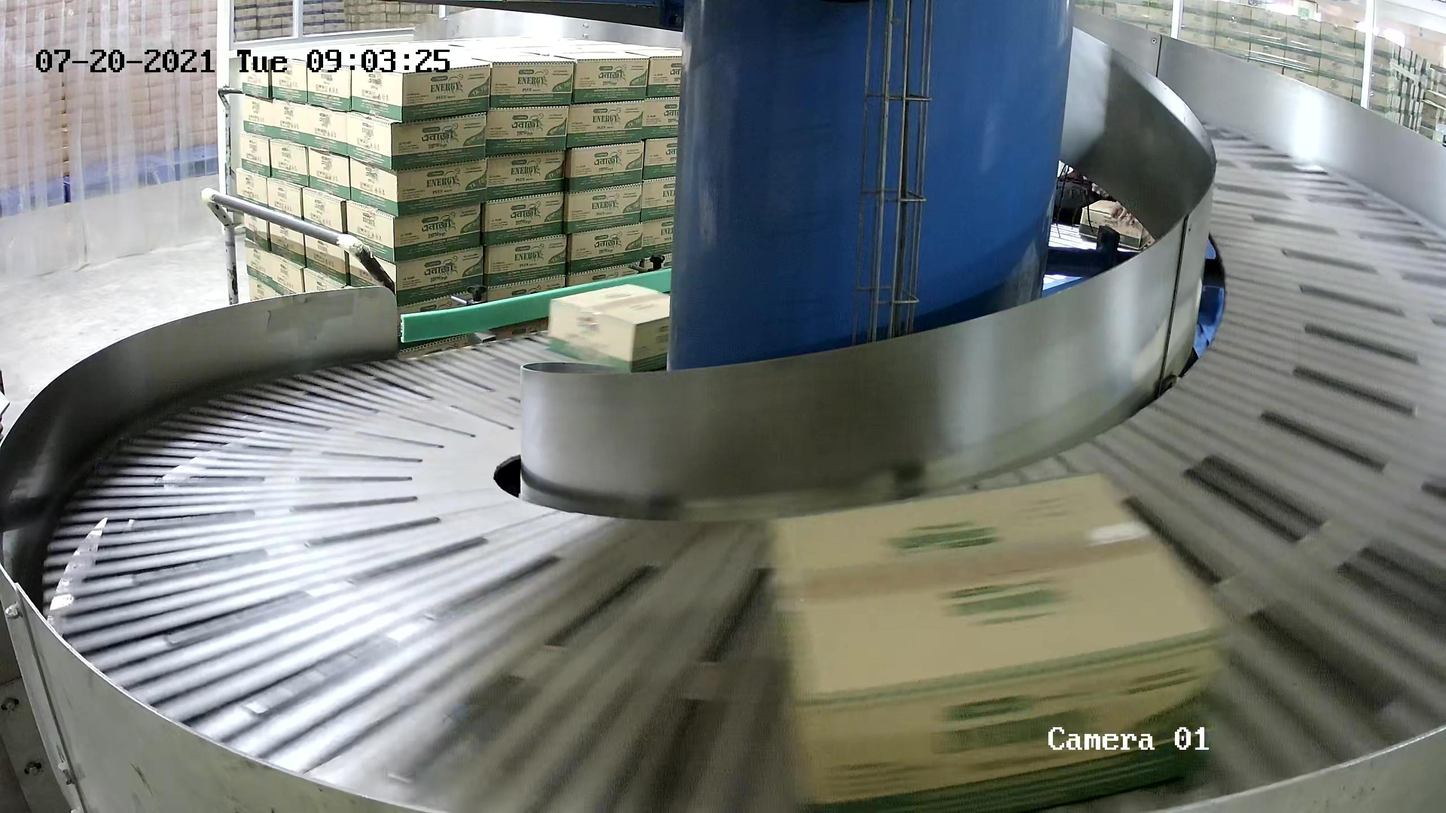Box: (770, 465, 1220, 813), (546, 283, 696, 376)
